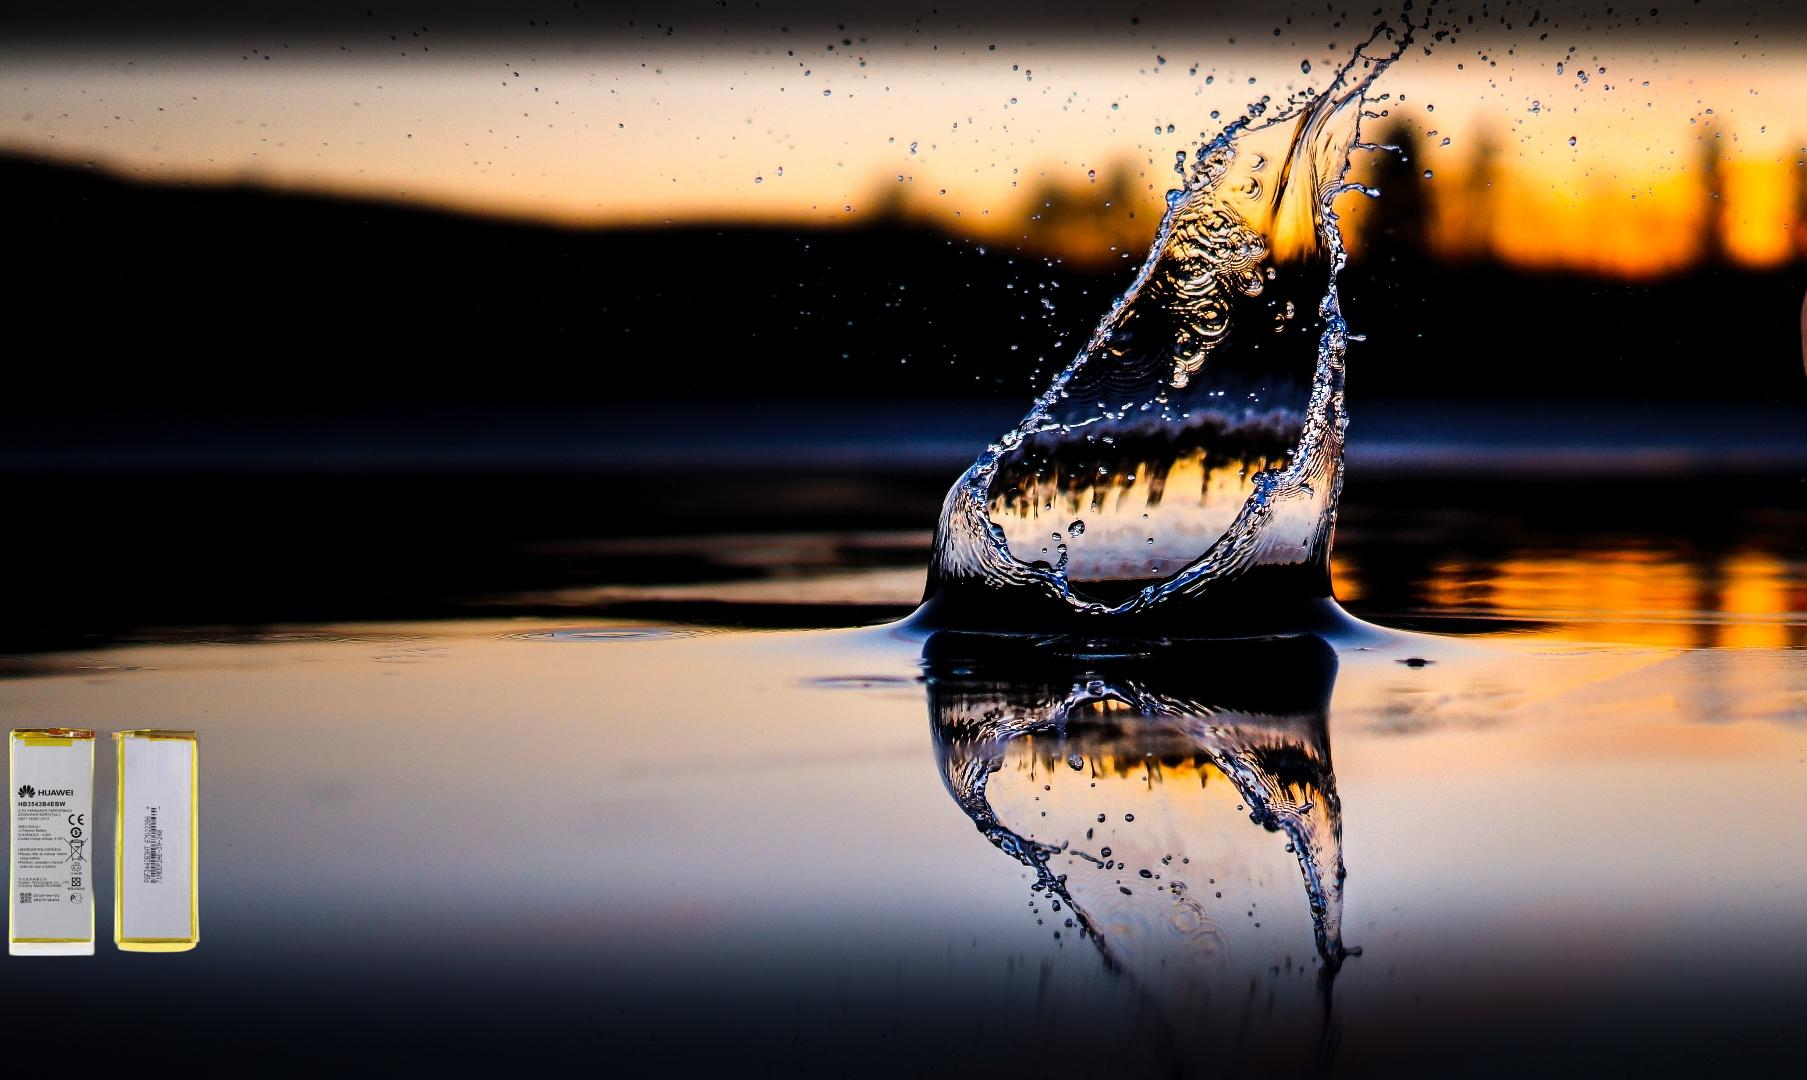battery: (5, 724, 203, 959)
biological: (1795, 165, 1807, 539)
